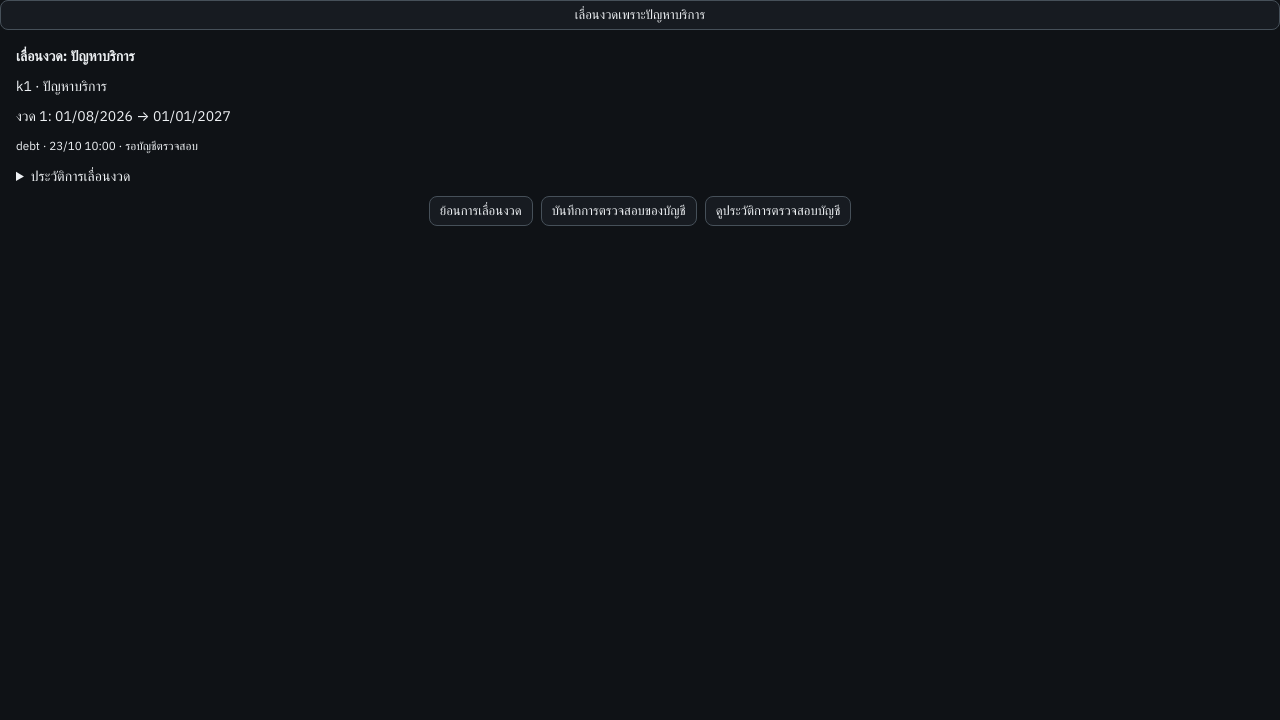
requires a fresh reversal preview and shows restored balances
The image size is (1280, 720).
Click the button "ย้อนการเลื่อนงวด".
click(481, 211)  # box [429,196,533,226]
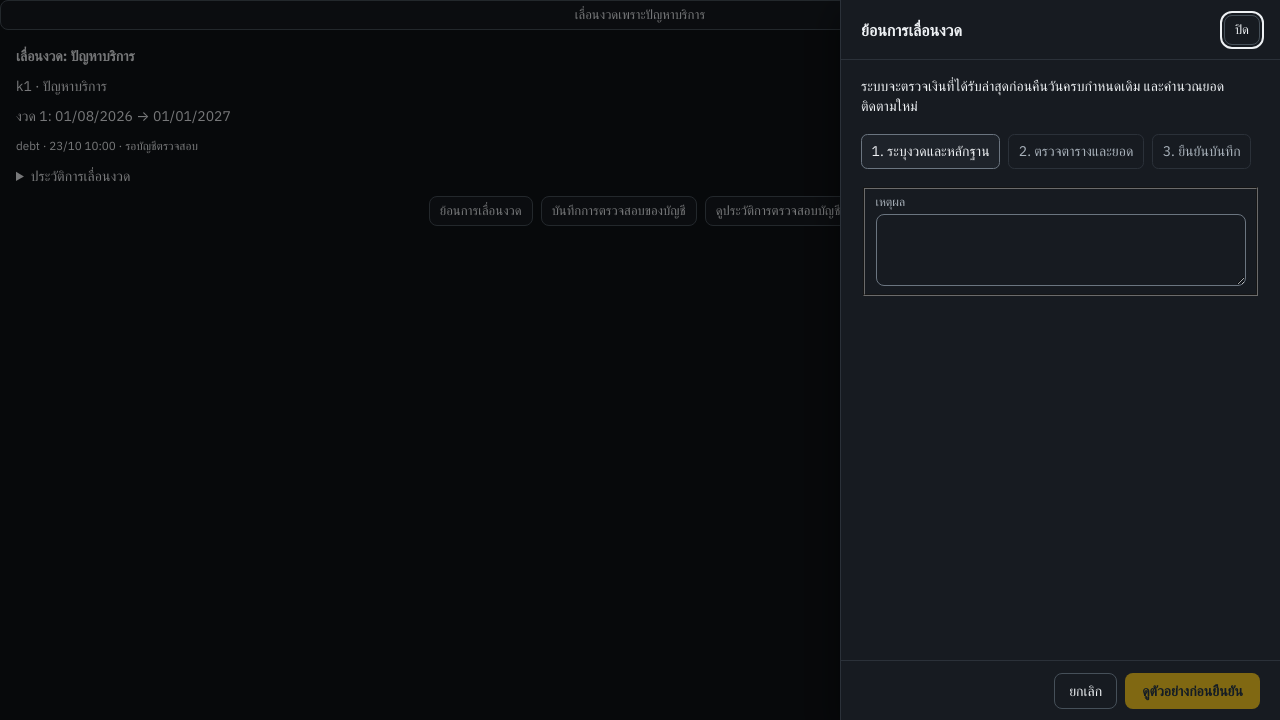
Type "แก้ไขวันที่" into the text box labelled "เหตุผล".
click(1060, 250); type("แก้ไขวันที่")  # box [876,214,1246,286]
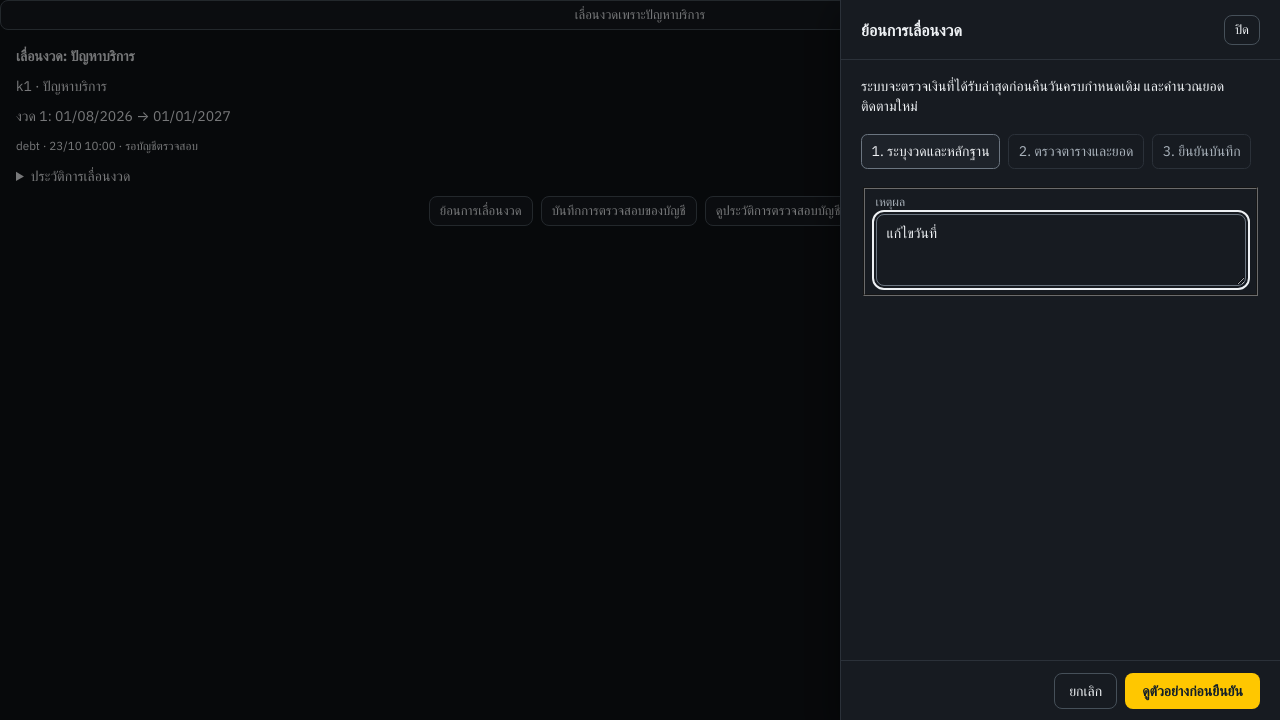
Click the button "ดูตัวอย่างก่อนยืนยัน".
click(1193, 690)  # box [1125,672,1260,708]
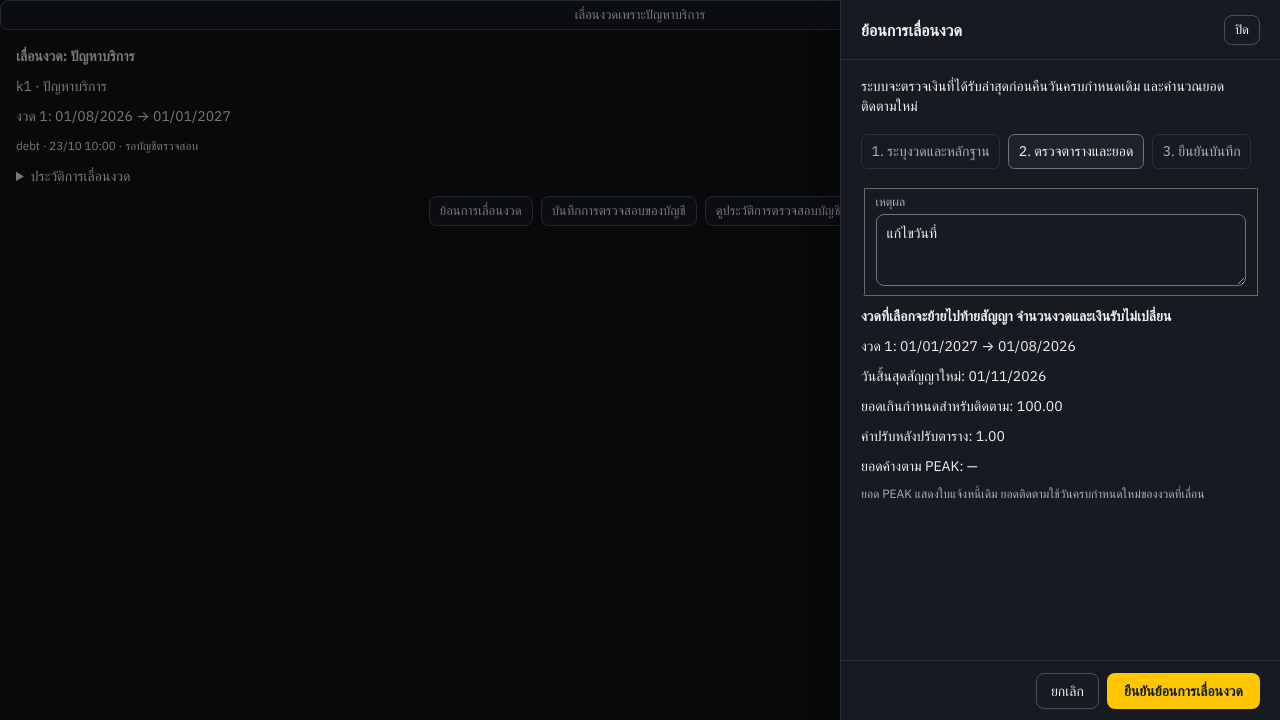
Expected: the text "ยอดเกินกำหนดสำหรับติดตาม: 100.00" is shown, [861,397,1063,415]
Click the button "ยืนยันย้อนการเลื่อนงวด".
click(1183, 690)  # box [1107,672,1260,708]
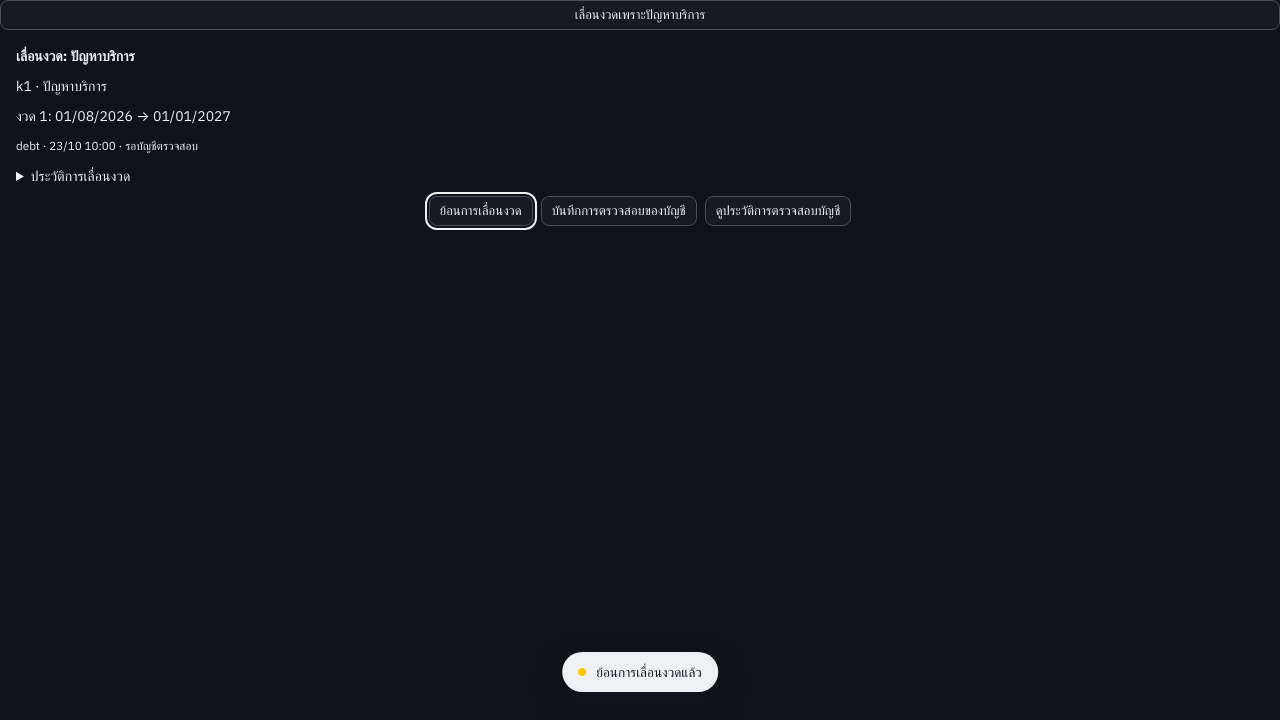
Expected: the message reads "ย้อนการเลื่อนงวดแล้ว", [596,663,702,681]
